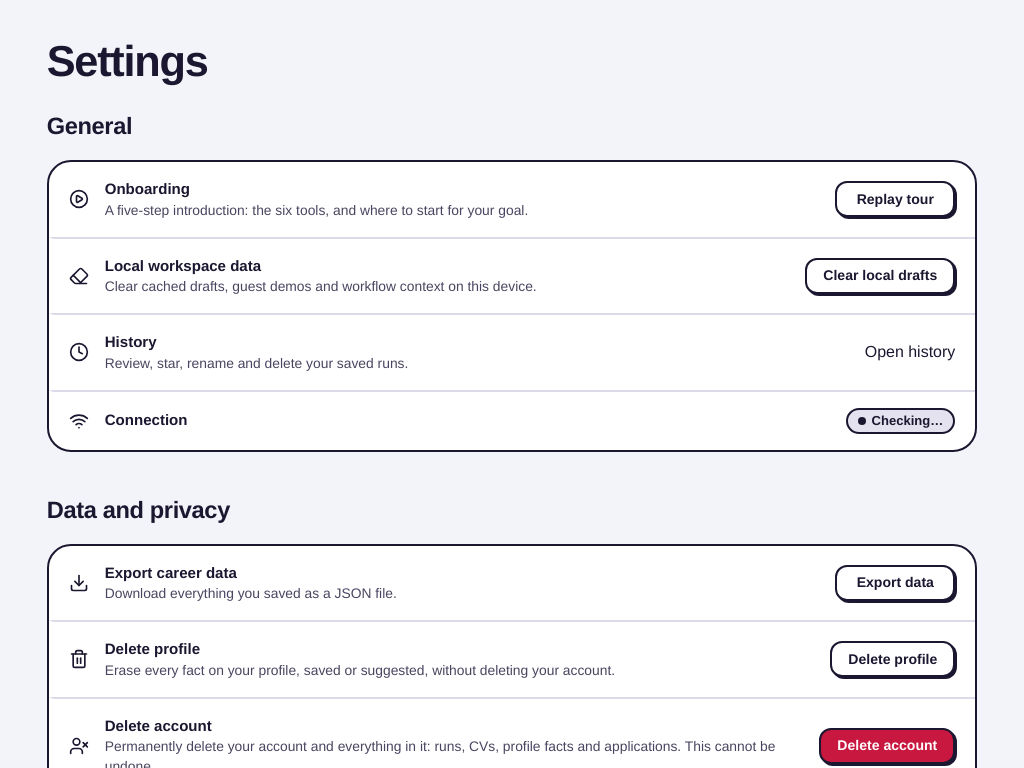
Settings page structure › shows an account deletion failure under the field it concerns
The width and height of the screenshot is (1024, 768).
Click the button "Delete account" at [887, 746], box [819,728,955,764]
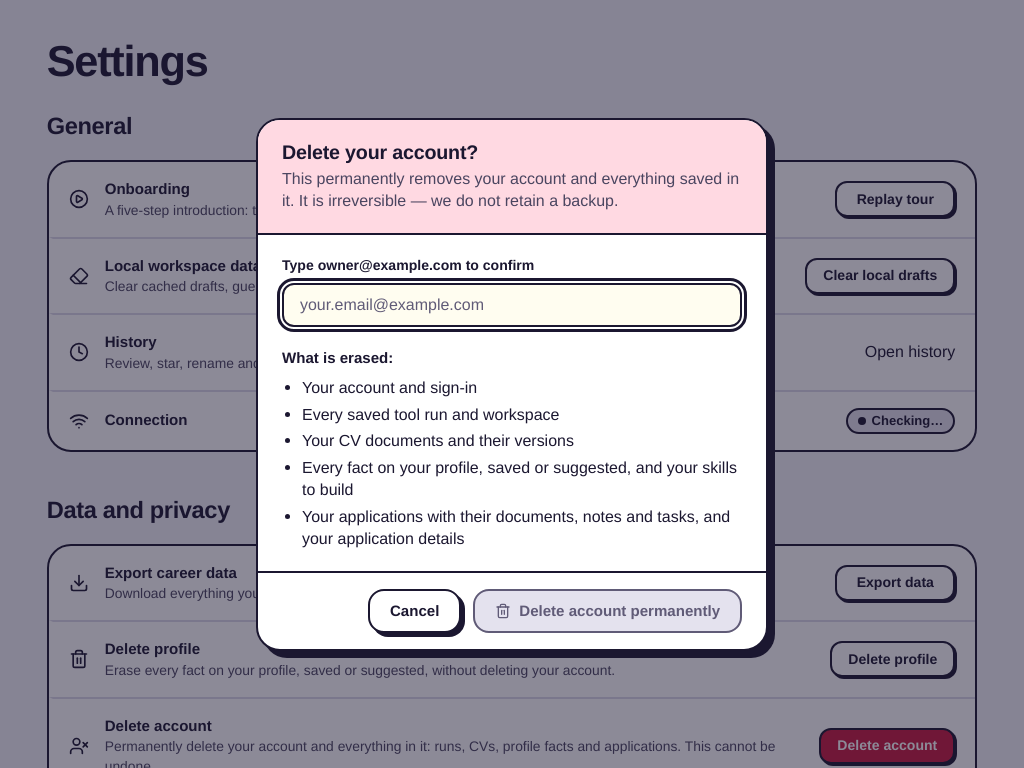
Type "owner@example.com" into the field at [512, 304], box [300,284,724,324]
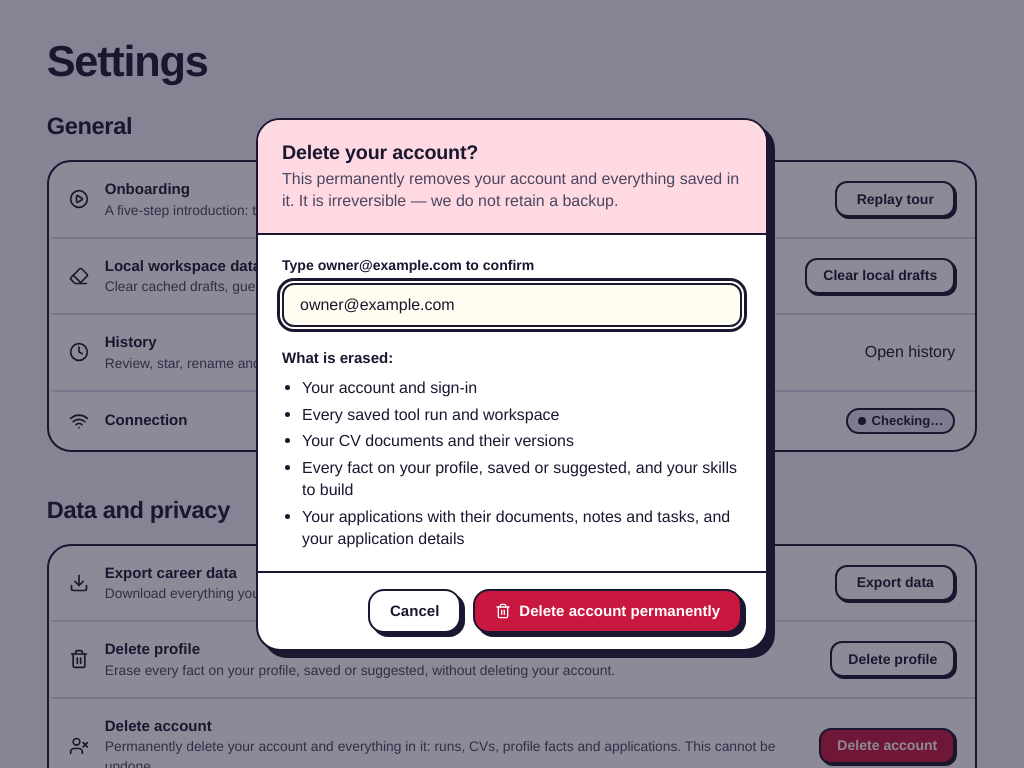
Click the button "Delete account permanently" at [608, 610], box [473,588,742,632]
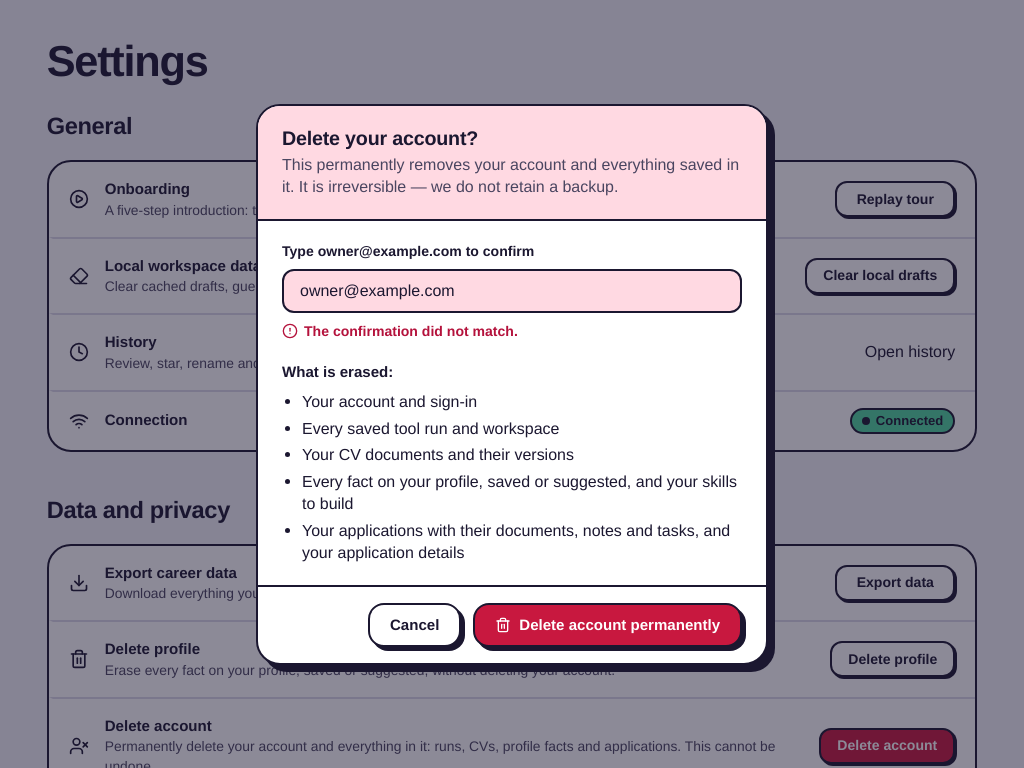
Expected: the message reads "The confirmation did not match.", [304,322,518,340]
